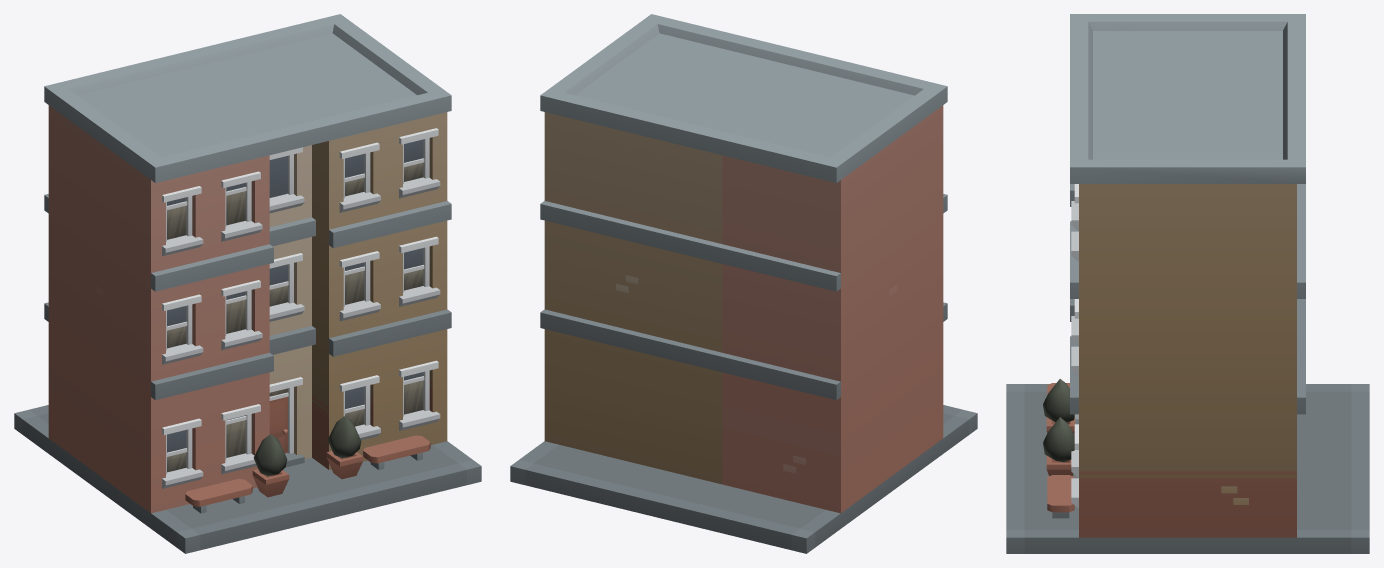
File: nyc-brownstone-b.glb
3 renders of one model, left to right at view 1: azimuth 30°, elevation 25°; view 2: azimuth 150°, elevation 25°; view 3: azimuth 270°, elevation 25°, orthographic. The views are drawn at different scales.
Visible parts, largest first — view 1: building_F; view 2: building_F; view 3: building_F.
Boxes of the visible parts, x1,y1,x2,y2 form: building_F: (14, 14, 481, 553); building_F: (510, 14, 977, 553); building_F: (1006, 14, 1369, 553).
Size of the model in its own units: 2.01 by 2.35 by 2.
2 materials, 2 textured.
